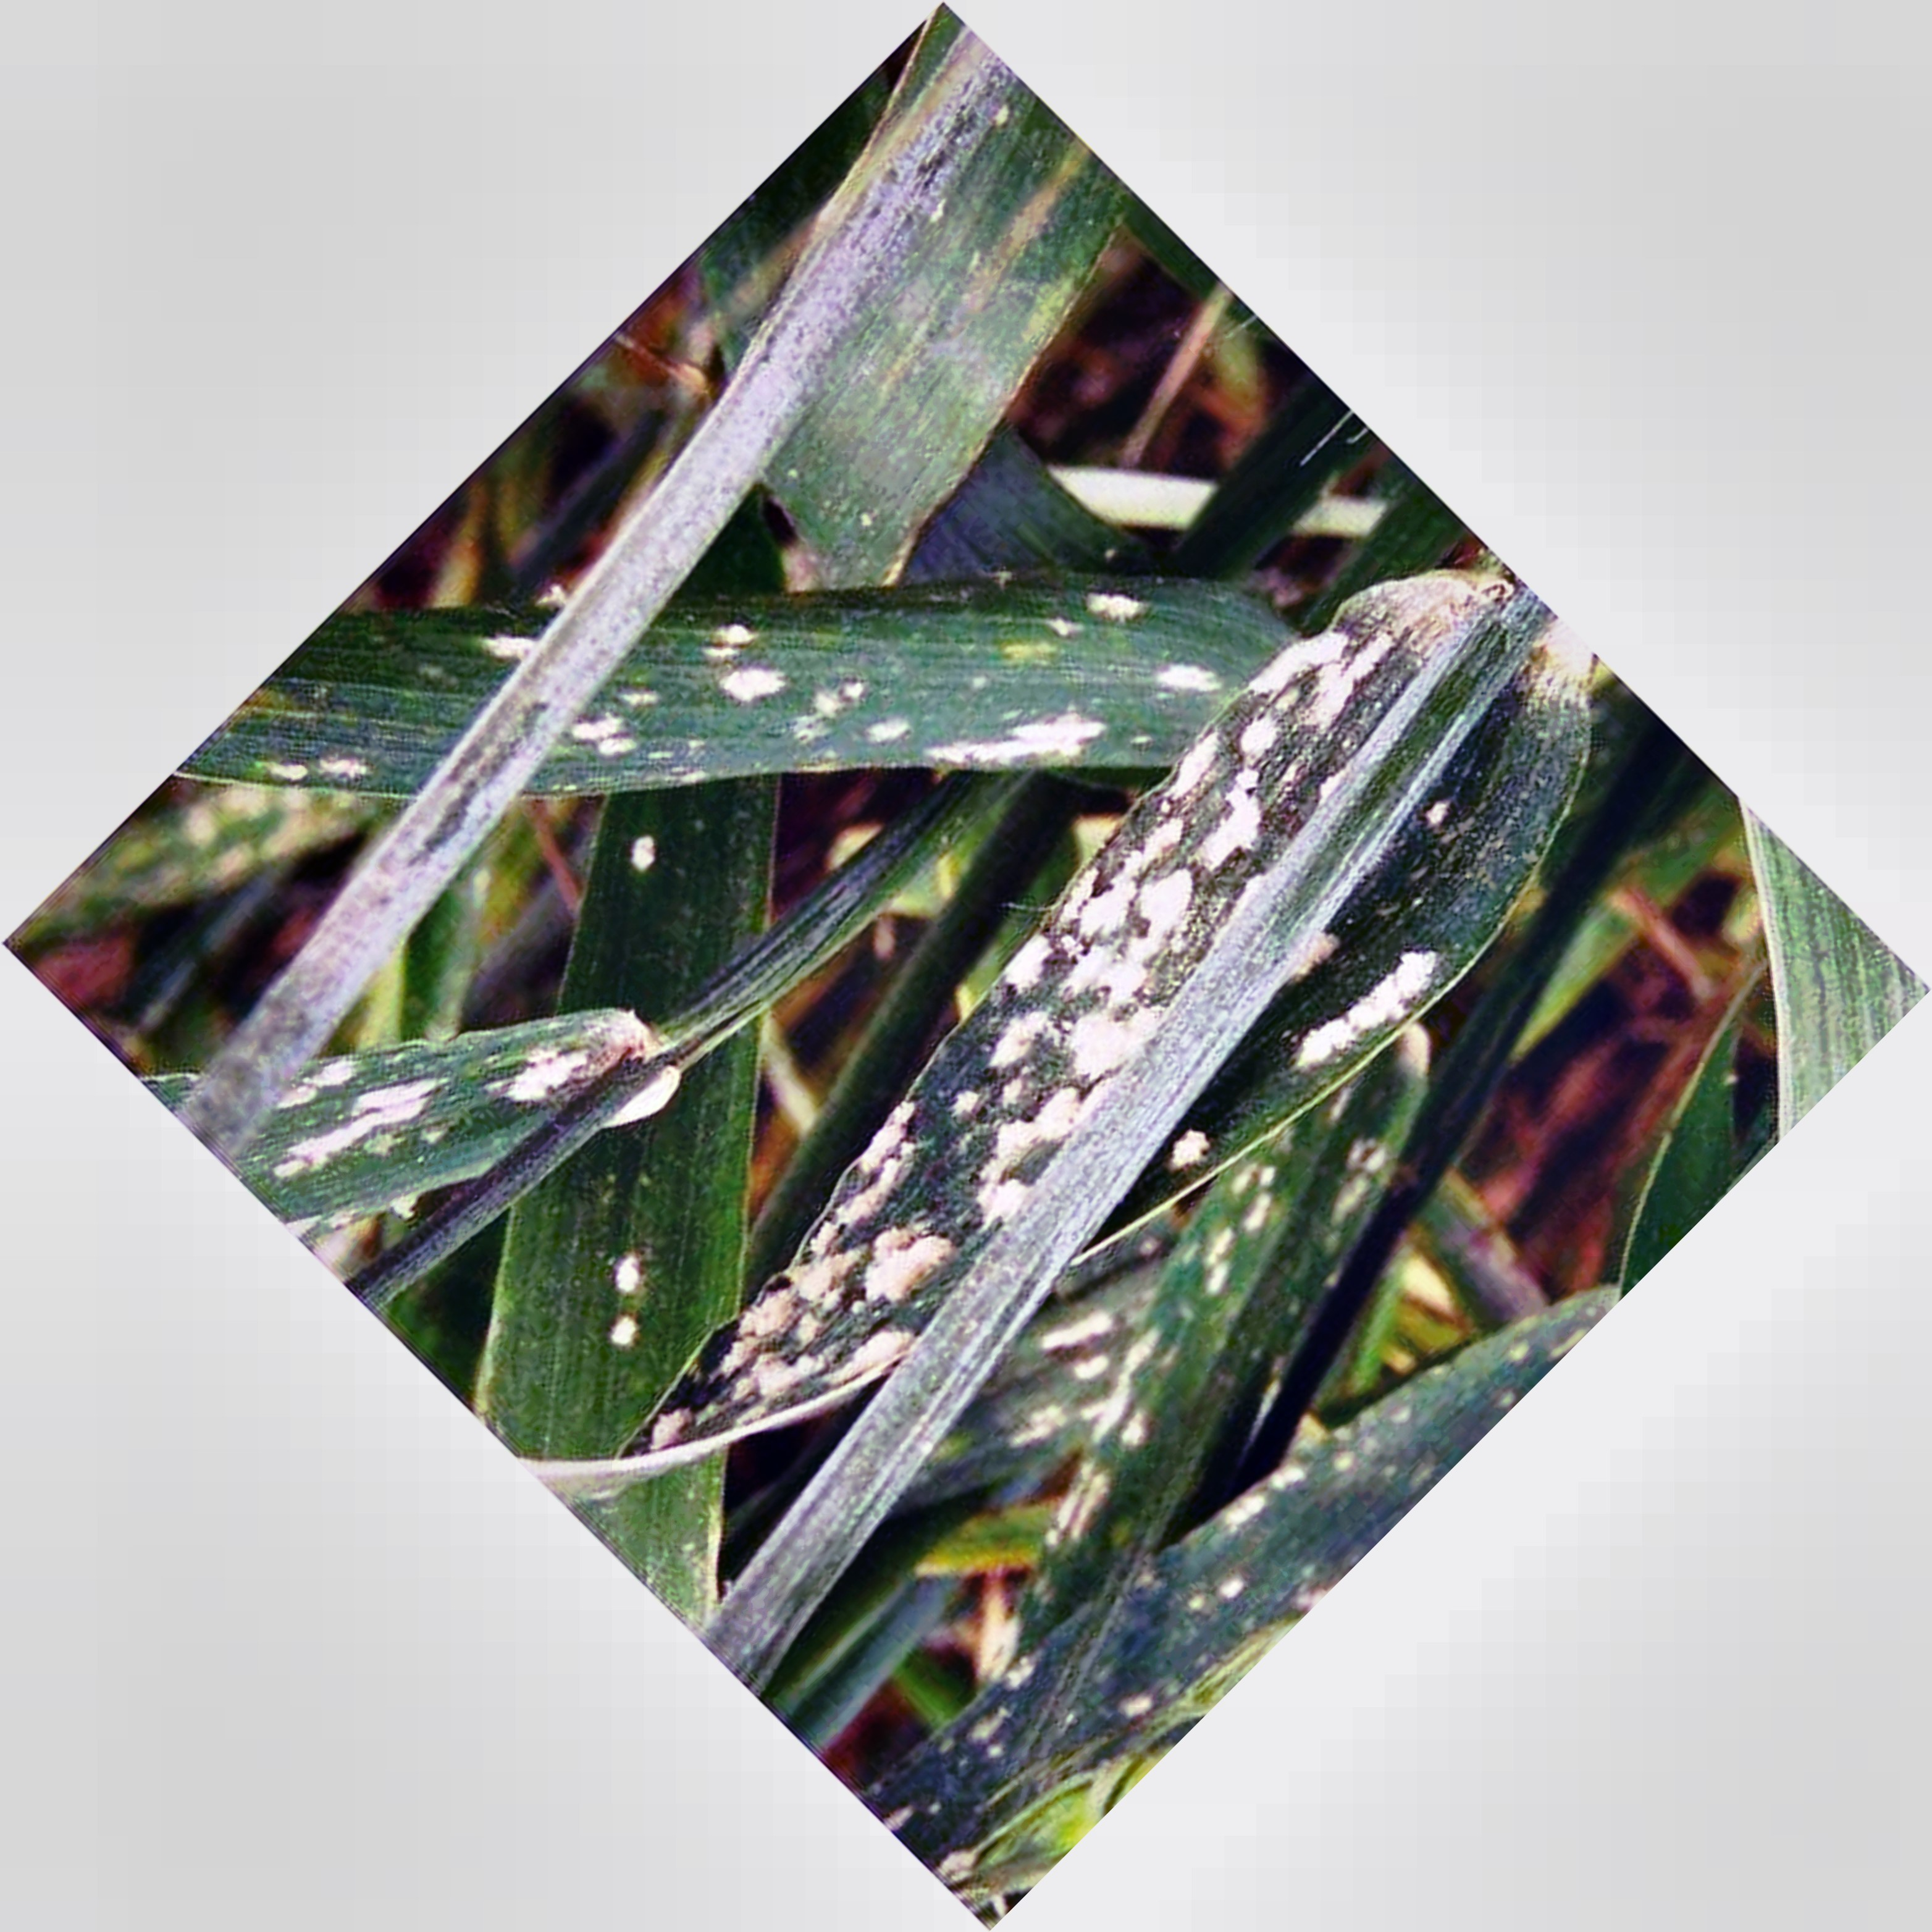Powdery Mildew: (752, 651, 1371, 1385)
